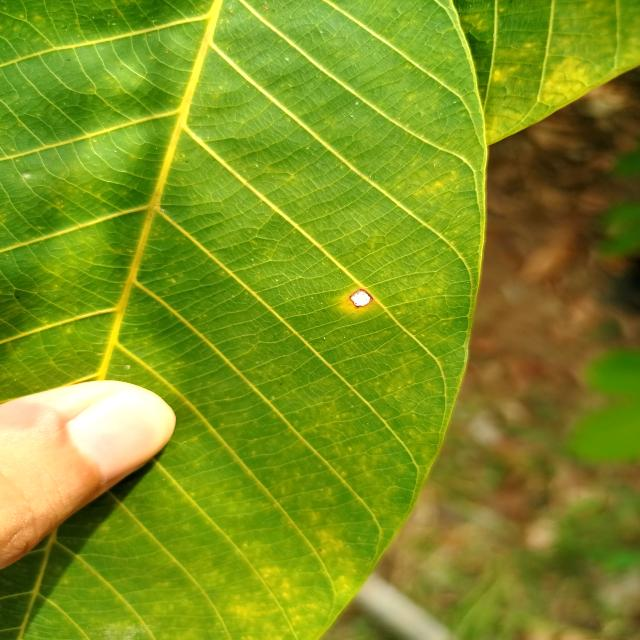Colletotrichum: (350, 288, 373, 308)
